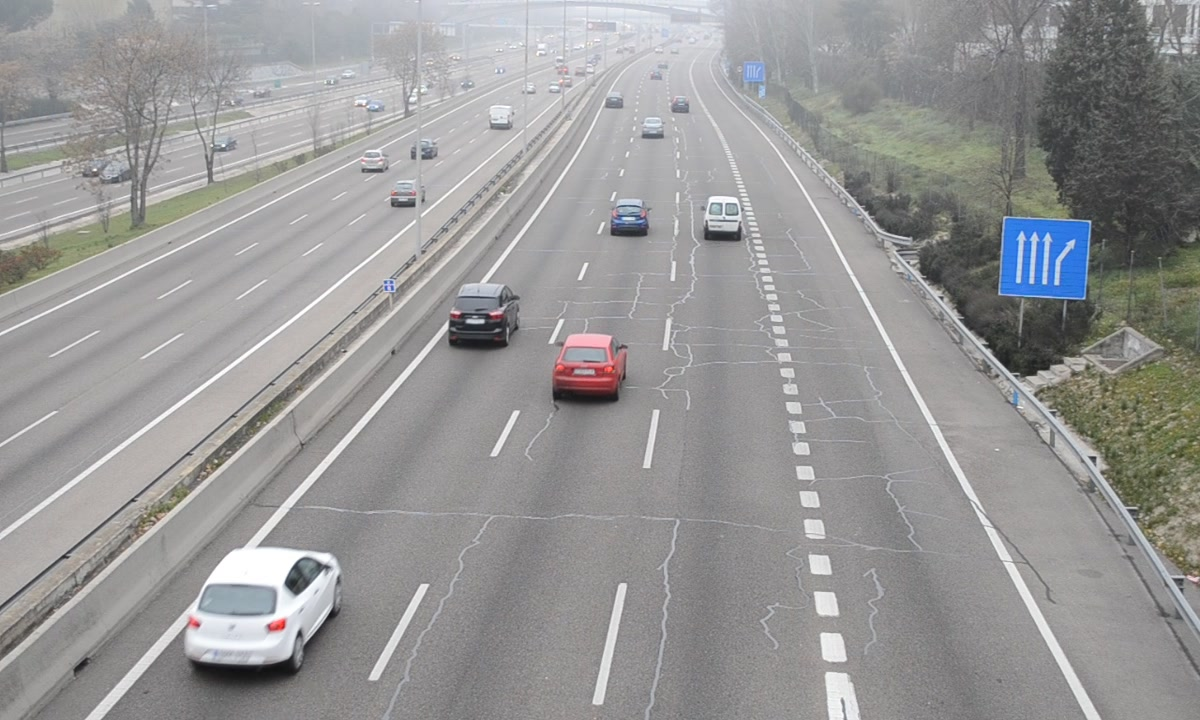car: (184, 548, 340, 668), (551, 334, 626, 396), (450, 284, 518, 343), (610, 200, 648, 237), (641, 116, 666, 140)
van: (703, 197, 745, 241)
